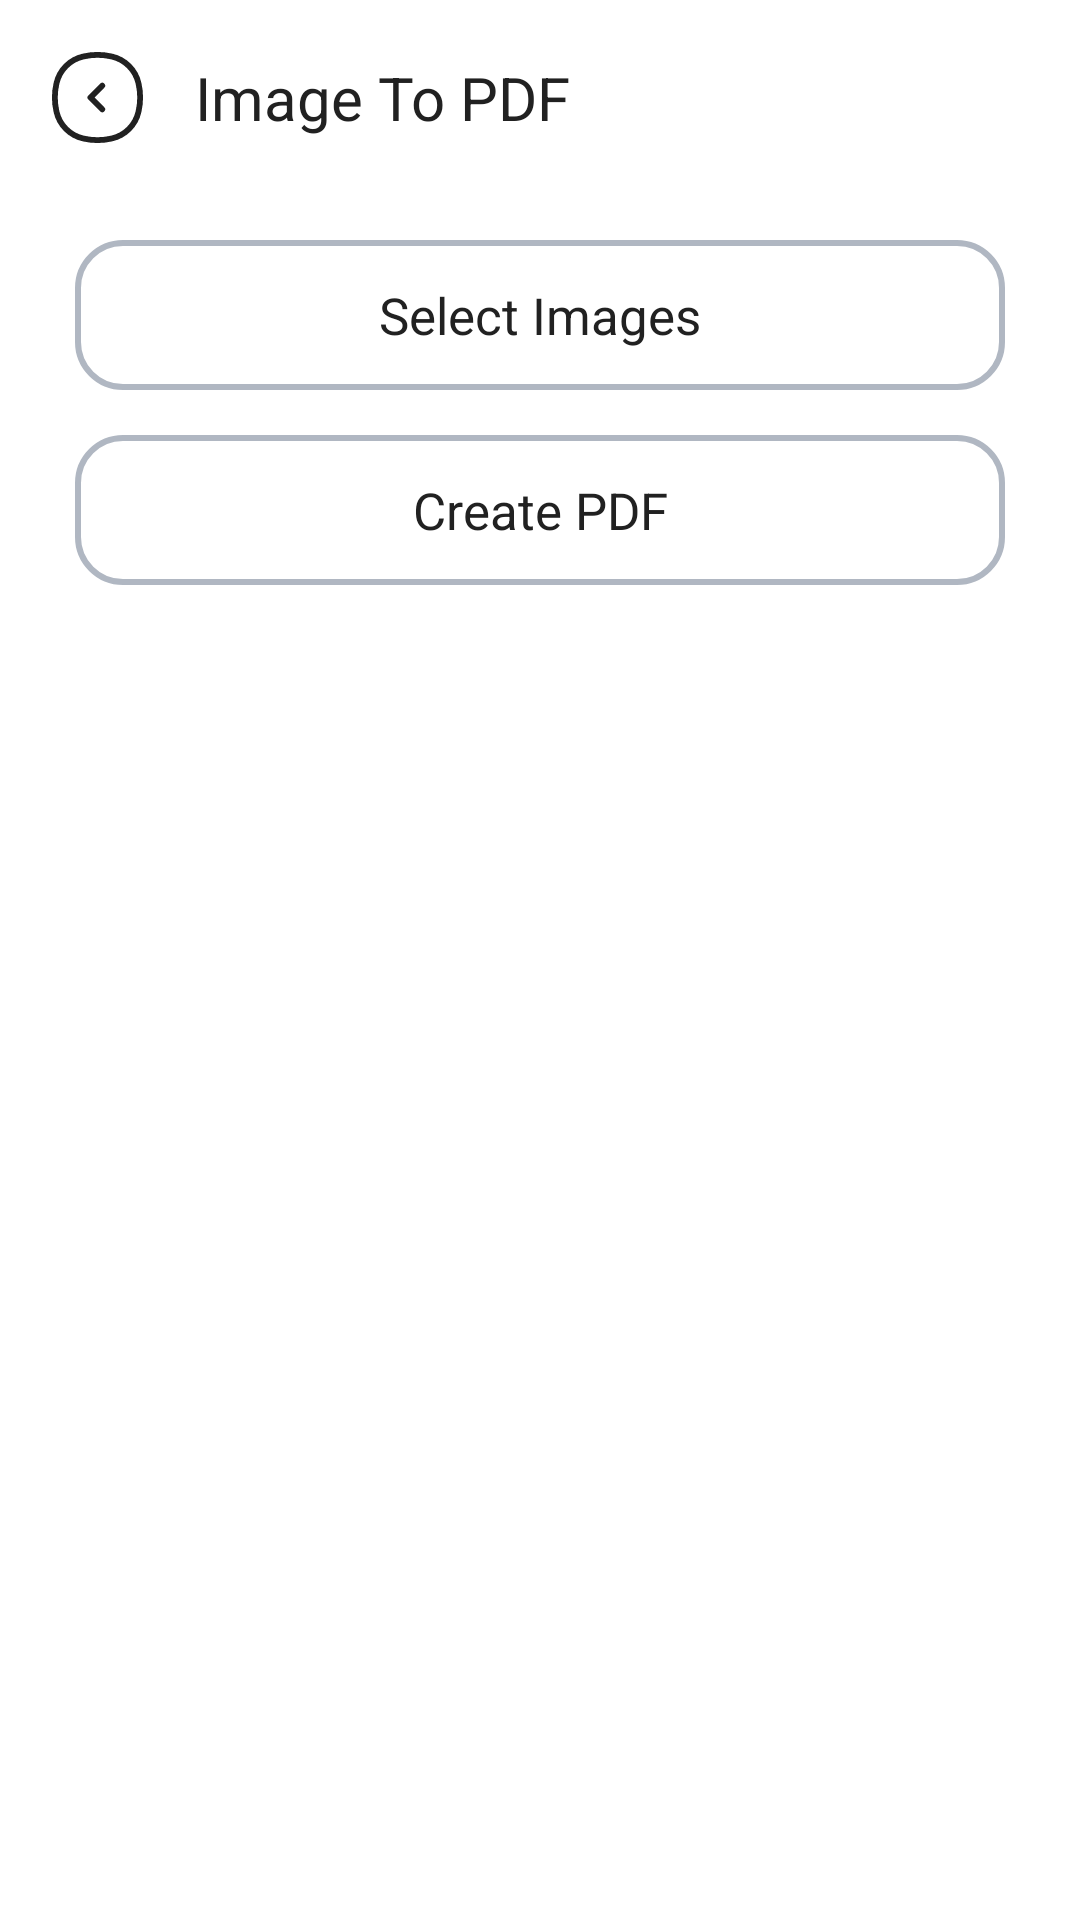

Named icons in this screenshot (1080x1920) and their bounding boxes, (x1, y1, x2, y2):
back: (52, 52, 143, 143)
